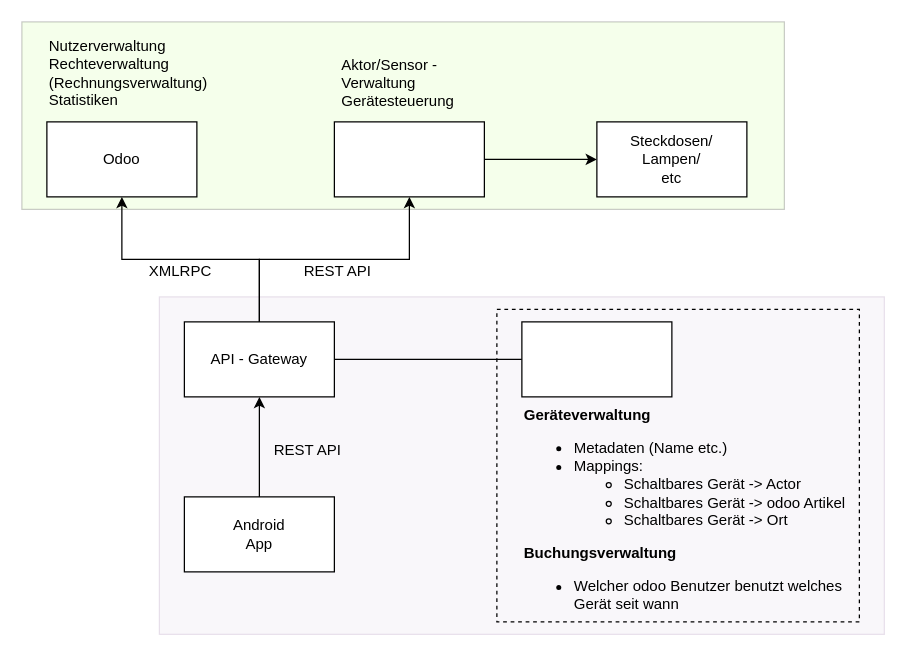
The diagram is 906 pixels wide and 656 high, and some of its shapes have lost their labels. Each missing label, with the centre of its shape:
"Datenbank (MongoDB)" belongs at (x=596, y=359).
"openHAB" belongs at (x=408, y=159).
